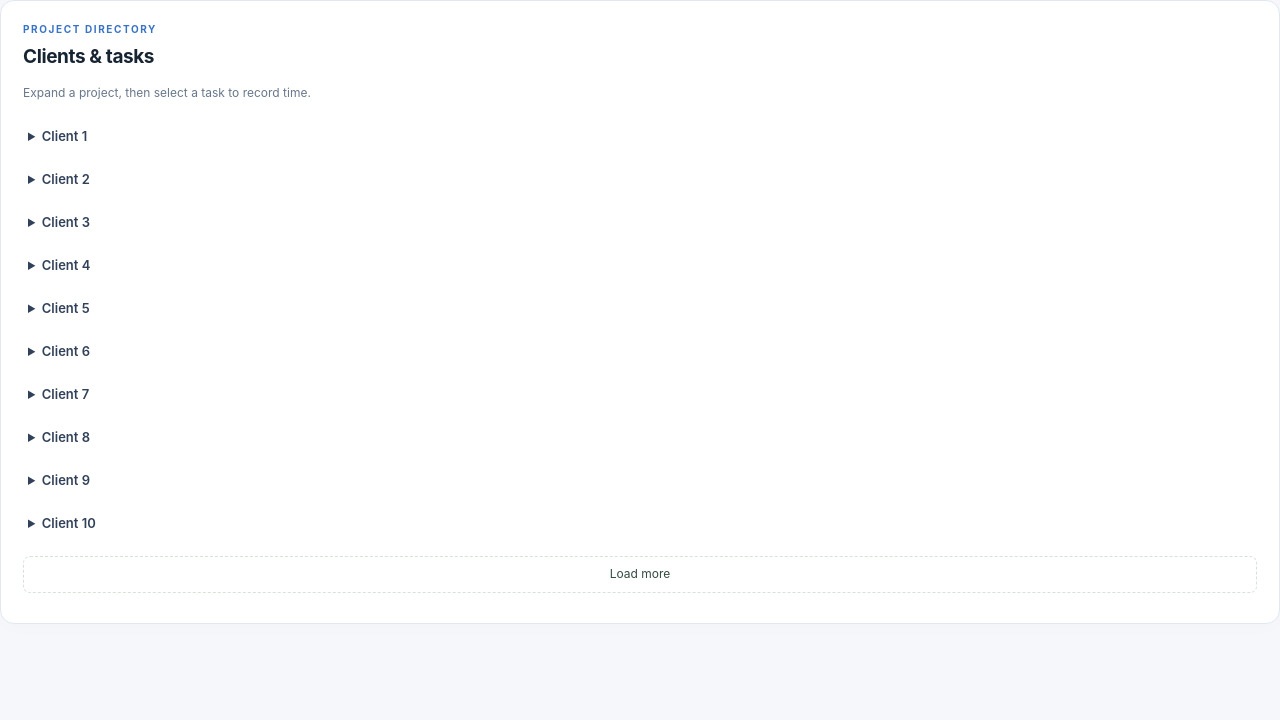
Scenario: makes every client accessible through Load more without replacing earlier records
Check: the heading "Client 1" is shown, box [42, 128, 87, 144]
Click the button "Load more" at (640, 575), box [23, 556, 1257, 593]
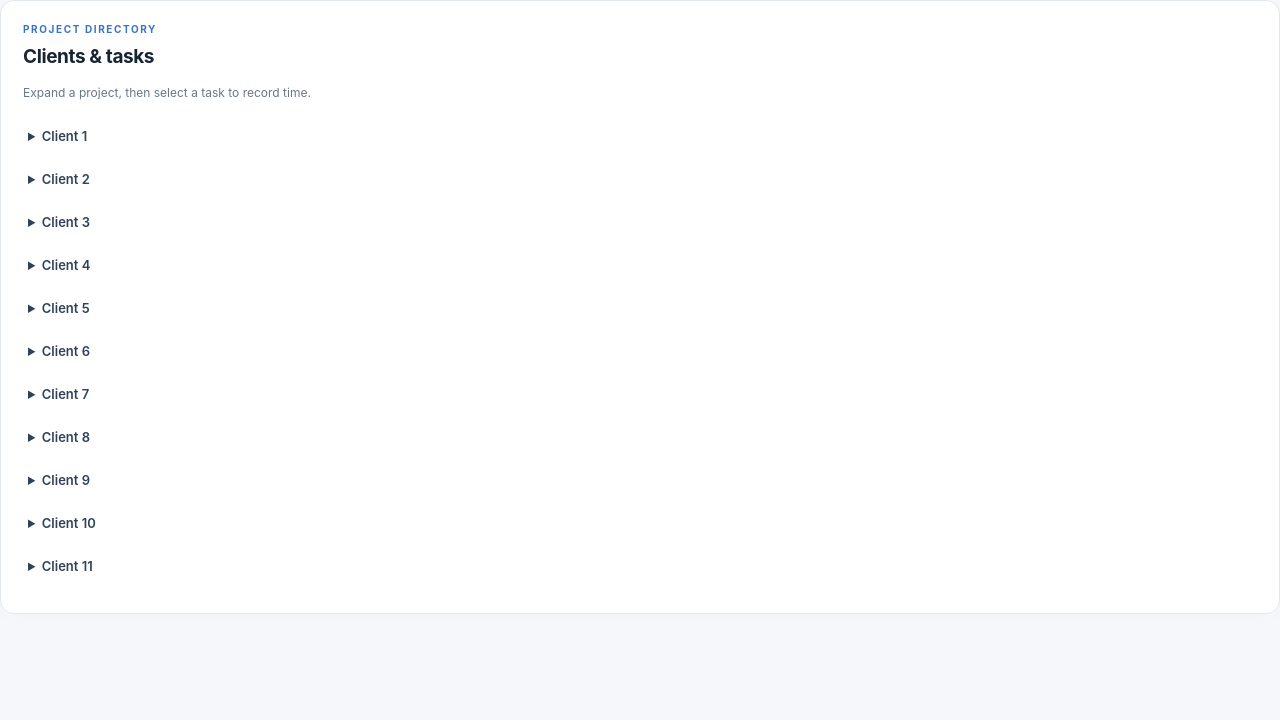
Check: the heading "Client 1" is shown, box [42, 128, 87, 144]
Check: the heading "Client 11" is shown, box [42, 558, 93, 574]
Check: the button "Load more" is gone
